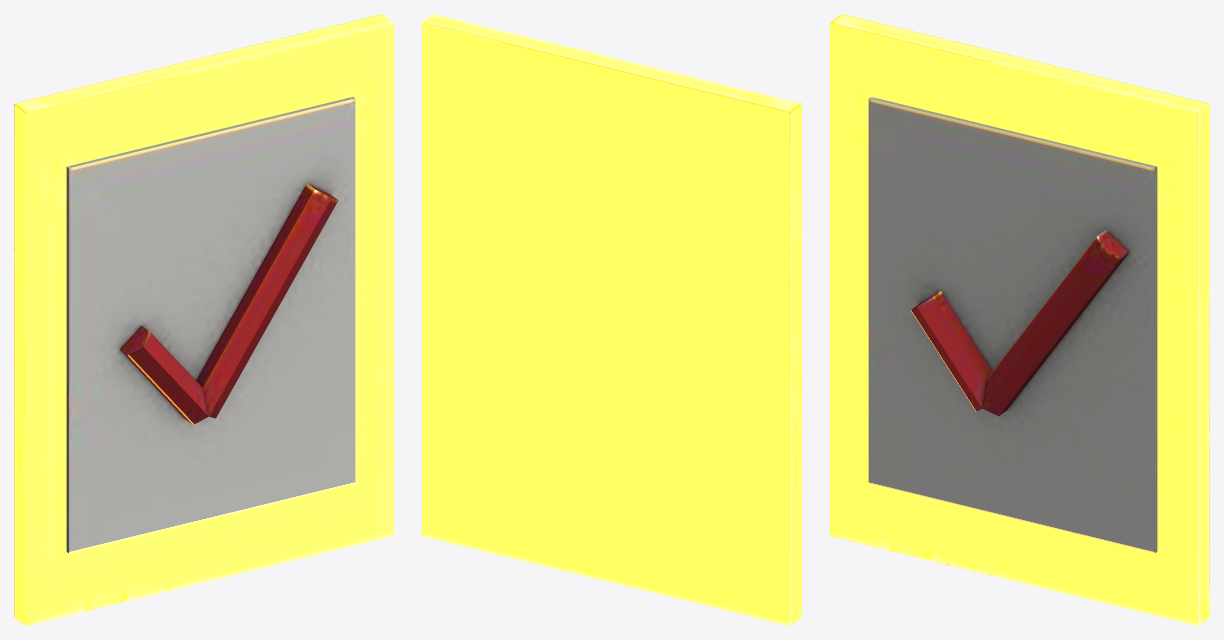
File: papeleta_oro.glb
The picture shows the model from 3 angles, left to right: view 1: azimuth 30°, elevation 25°; view 2: azimuth 150°, elevation 25°; view 3: azimuth 330°, elevation 25°; orthographic projection.
Visible parts, largest first — view 1: papeleta_oro; view 2: papeleta_oro; view 3: papeleta_oro.
Part boxes in pixels (bbox=[...]): papeleta_oro: bbox=[14, 14, 393, 625]; papeleta_oro: bbox=[422, 14, 801, 625]; papeleta_oro: bbox=[830, 14, 1209, 625].
Size of the model in its own units: 0.9 by 1.2 by 0.115.
1 material, 1 textured.
